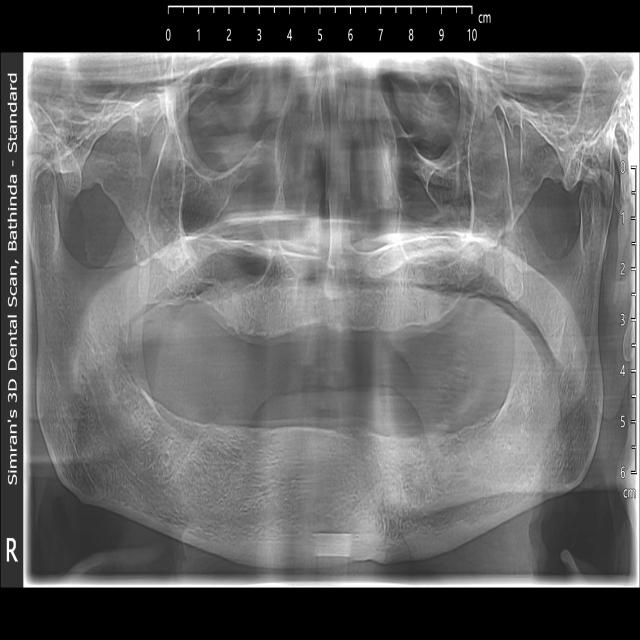Missing teeth: (151, 373, 515, 457), (188, 280, 476, 365)
